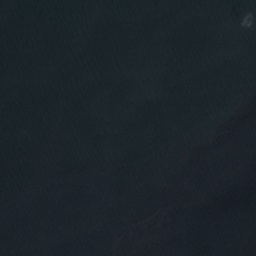Marine Debris: (217, 131, 227, 137)
